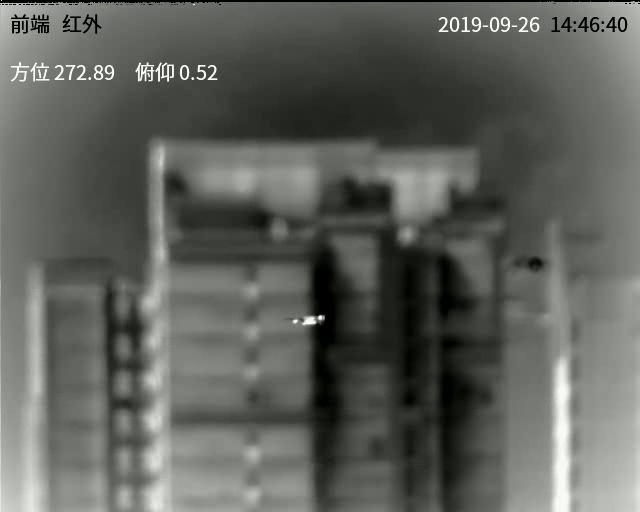DRONE: (287, 312, 327, 328)
